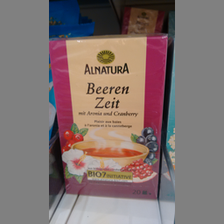tea: (50, 34, 167, 200)
